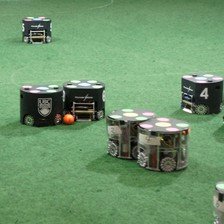ball: (60, 111, 74, 126)
robot: (134, 115, 193, 171), (103, 105, 141, 161), (177, 68, 223, 114), (18, 82, 64, 127), (62, 77, 107, 123), (20, 13, 54, 44)
